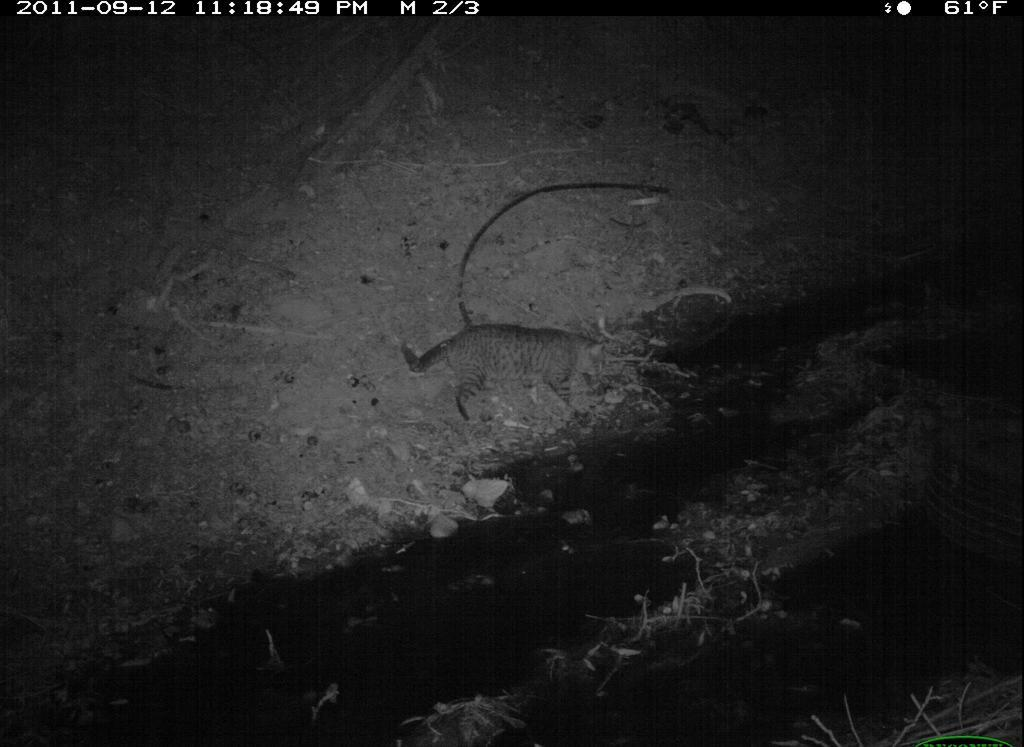cat: (396, 313, 617, 427)
